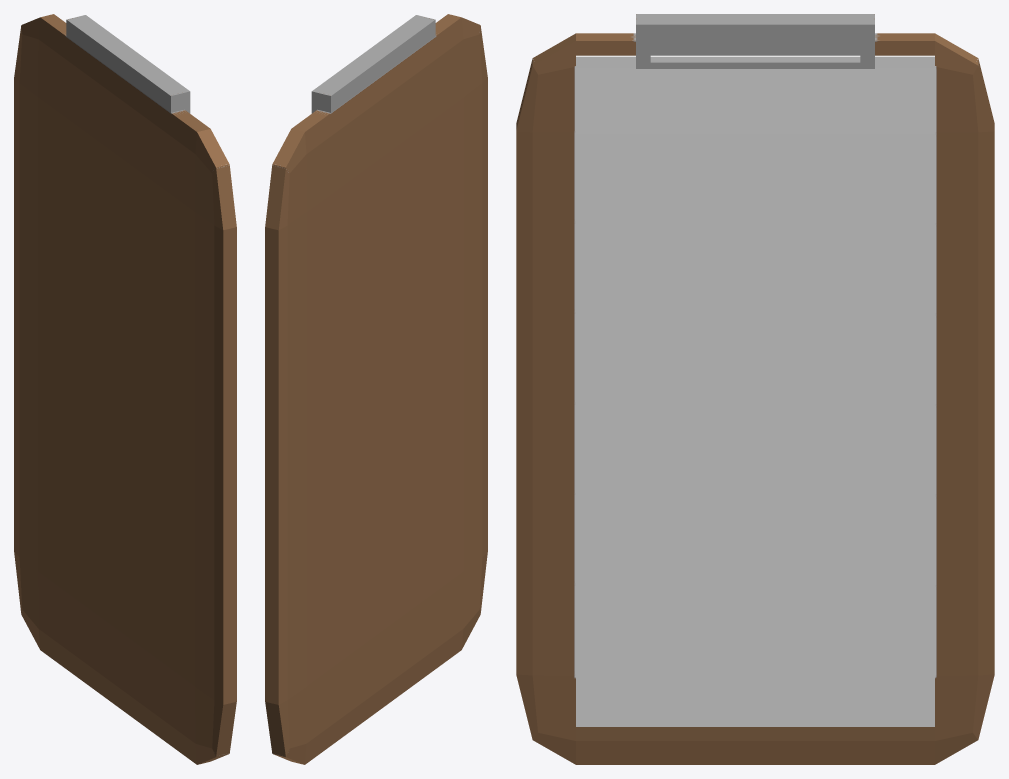
File: clipboard.glb
The picture shows the model from 3 angles, left to right: view 1: azimuth 30°, elevation 25°; view 2: azimuth 150°, elevation 25°; view 3: azimuth 270°, elevation 25°; orthographic projection. The views are drawn at different scales.
Parts seen in each view (by area): view 1: Cube; view 2: Cube; view 3: Cube.
Part boxes in pixels (x1,y1,x2,y2): Cube: [14, 14, 236, 764]; Cube: [265, 14, 487, 764]; Cube: [516, 14, 994, 764].
Bounding box in the file's own units: 0.2162 × 6.21 × 3.62.
Materials: 1 (1 with a texture image).
